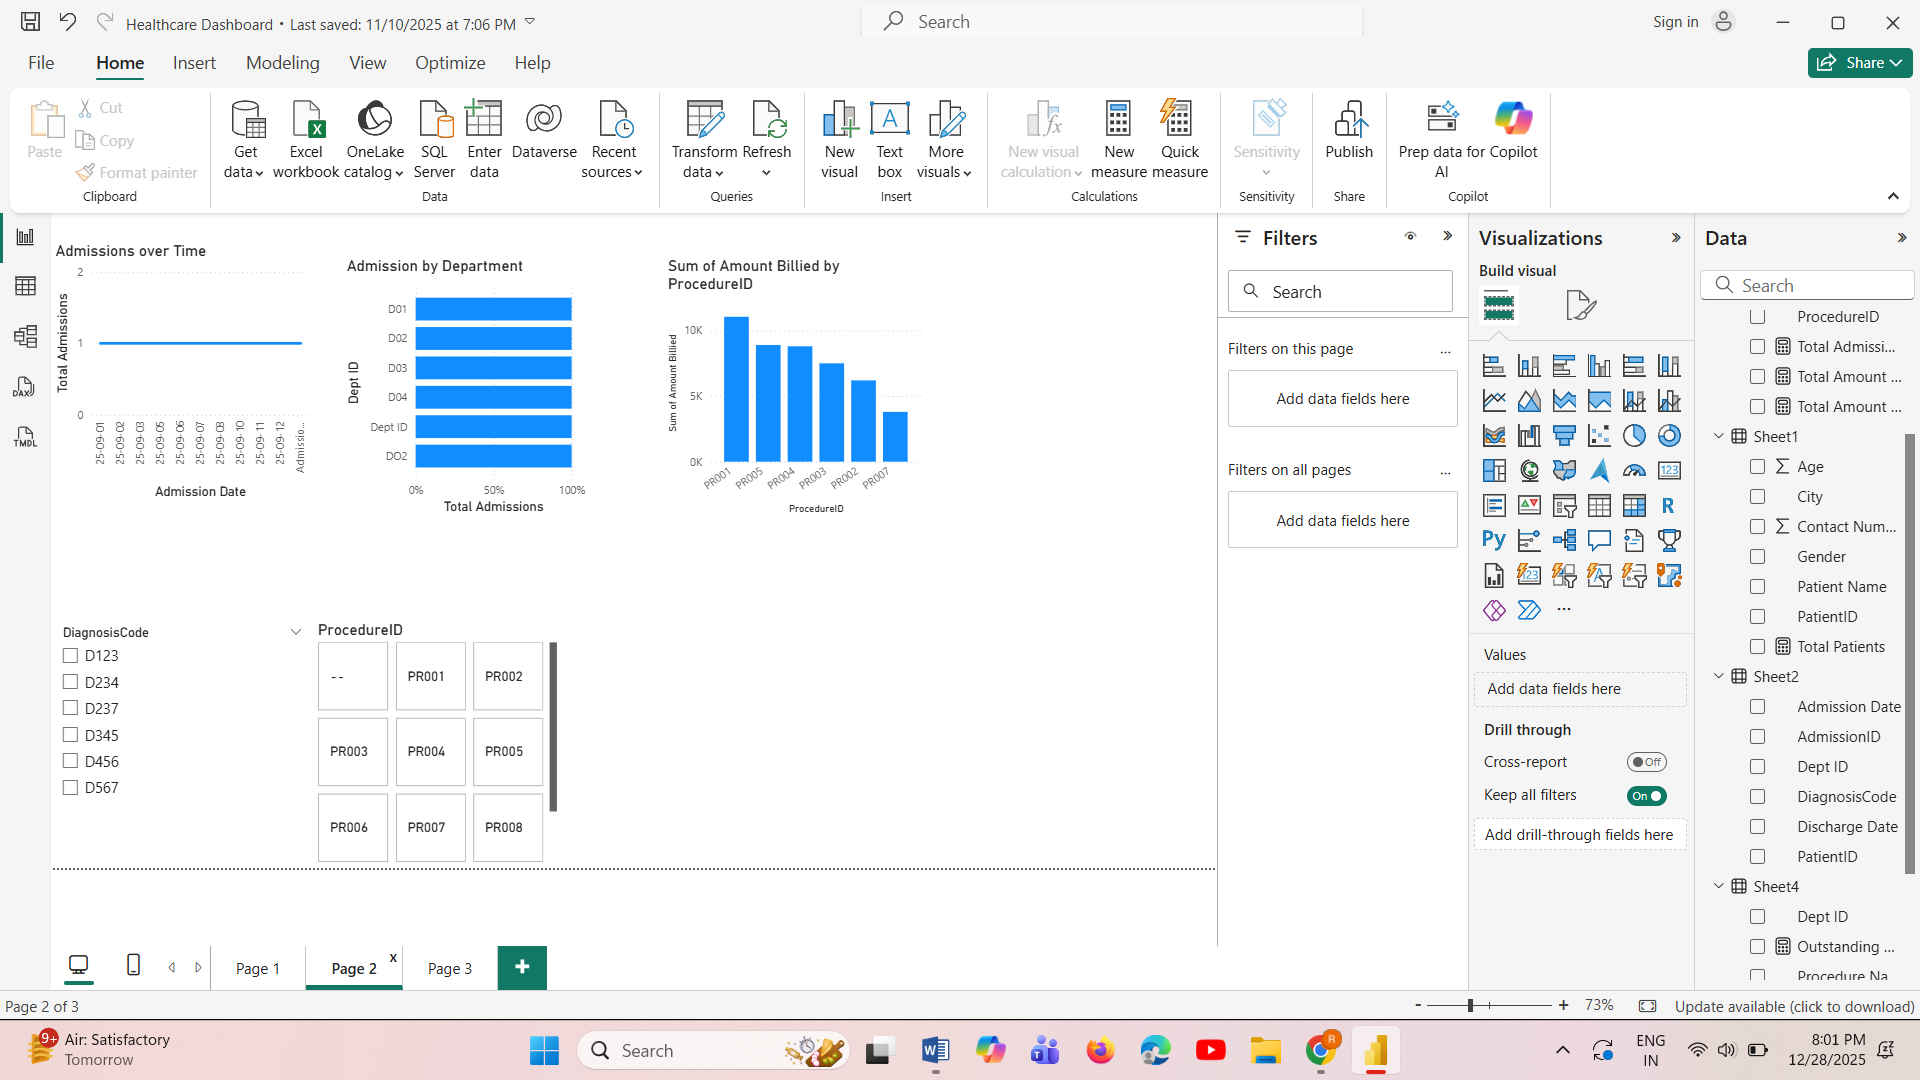

This screenshot's page, from the dashboard's own definition file:
{"tool":"powerbi","page":{"name":"Page 2","canvas":[1280,720],"ordinal":1},"visuals":[{"type":"lineChart","title":"Admissions over Time","fields":{"Category":["Sheet2.Admission Date"],"Y":["Sheet2.Total Admissions"]},"box":[0,32,288,288],"z":0},{"type":"hundredPercentStackedBarChart","title":"Admission by Department","fields":{"Category":["Sheet2.Dept ID"],"Y":["Sheet2.Total Admissions"]},"box":[320,48,272,288],"z":1000},{"type":"slicer","fields":{"Values":["Sheet2.DiagnosisCode"]},"box":[0,448,288,272],"z":2000},{"type":"clusteredColumnChart","fields":{"Y":["Sum(Amount Billed.Amount Billied)"],"Category":["Sheet4.ProcedureID"]},"box":[672,48,288,288],"z":3000},{"type":"advancedSlicerVisual","fields":{"Values":["Sheet4.ProcedureID"]},"box":[288,448,272,272],"z":4000}]}

Visuals, with their boxes on the page's 1280x720 design canvas (x1, y1, x2, y2). These are canvas units, not pixel positions in the 1920x1080 screenshot, which may show the page scaled, cropped or inside an application window:
"Admissions over Time" lineChart: bbox=[0, 32, 288, 320]
"Admission by Department" hundredPercentStackedBarChart: bbox=[320, 48, 592, 336]
slicer - Sheet2.DiagnosisCode: bbox=[0, 448, 288, 720]
clusteredColumnChart - Sum(Amount Billed.Amount Billied) x Sheet4.ProcedureID: bbox=[672, 48, 960, 336]
advancedSlicerVisual - Sheet4.ProcedureID: bbox=[288, 448, 560, 720]
